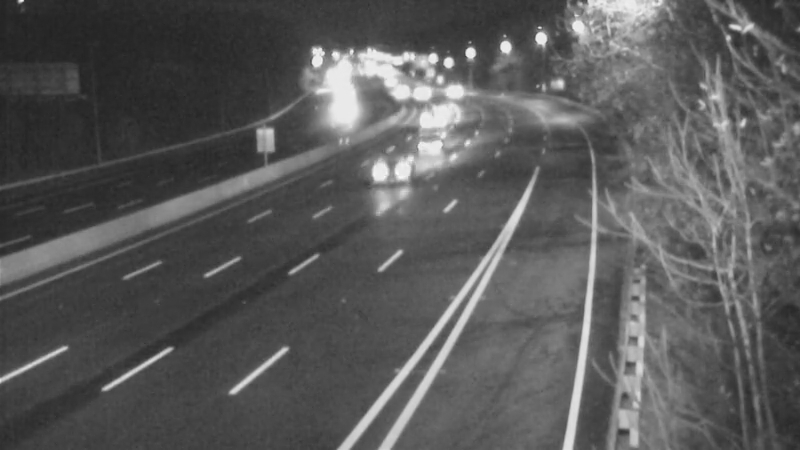vehicle: (345, 128, 425, 208), (420, 64, 470, 114), (367, 62, 417, 112), (398, 67, 448, 117), (419, 84, 469, 134), (408, 93, 458, 143), (412, 115, 462, 165), (316, 81, 366, 131)
